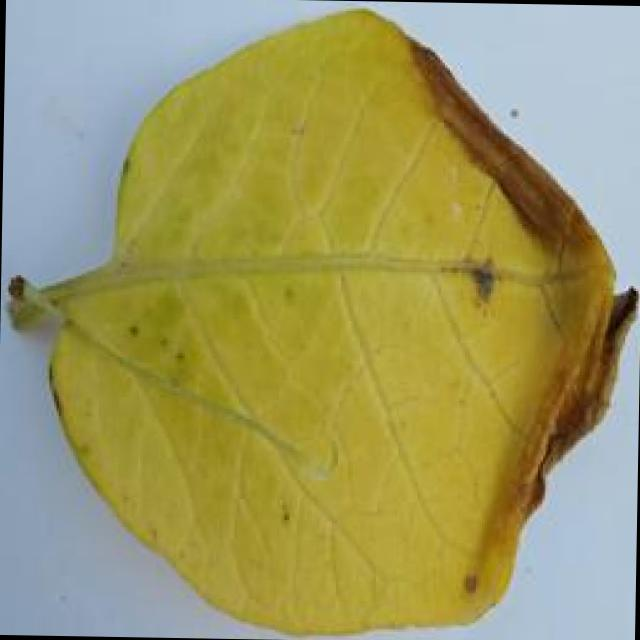Potato_Late_Blight: (4, 3, 630, 638)
